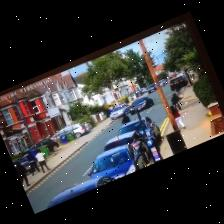person: (15, 163, 29, 186), (170, 106, 184, 129), (25, 152, 39, 175), (35, 150, 49, 172), (171, 94, 181, 110), (121, 115, 129, 124)
